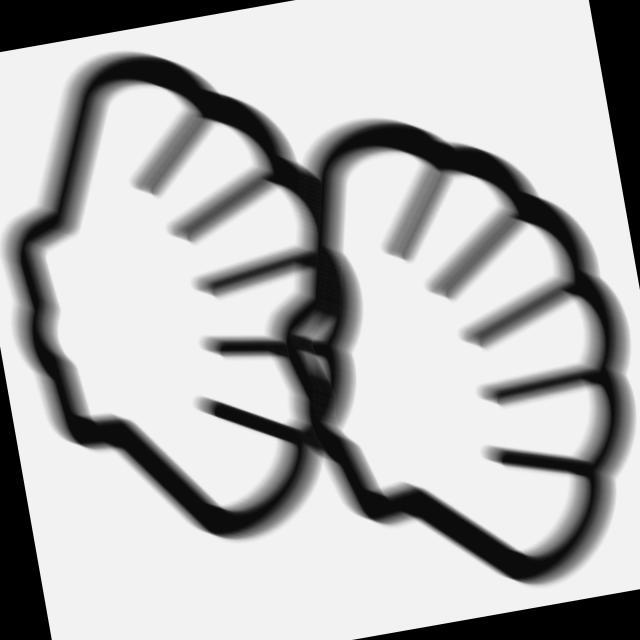shell: (231, 70, 640, 638), (1, 9, 400, 586)
